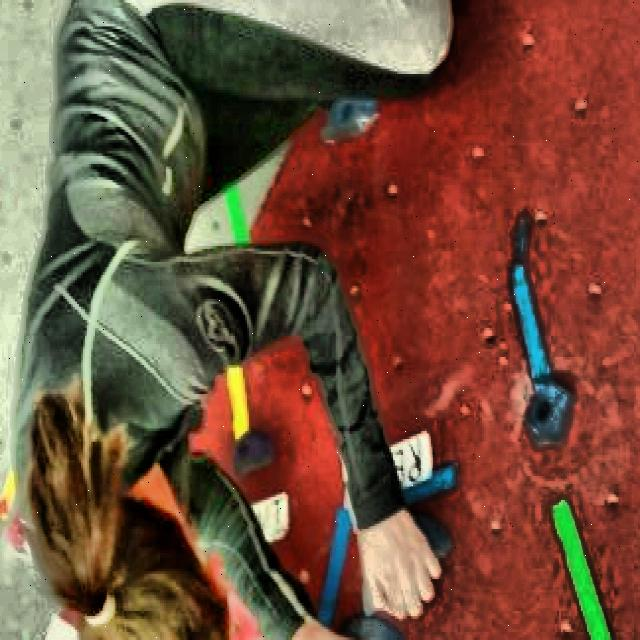Hold: (529, 378, 573, 444), (233, 431, 273, 476)
Unknown: (320, 100, 377, 143), (415, 513, 452, 558), (344, 614, 405, 640)
start_tag: (551, 500, 614, 640), (510, 259, 551, 383), (318, 505, 350, 628), (404, 465, 457, 503), (227, 368, 249, 442), (224, 185, 247, 239)
